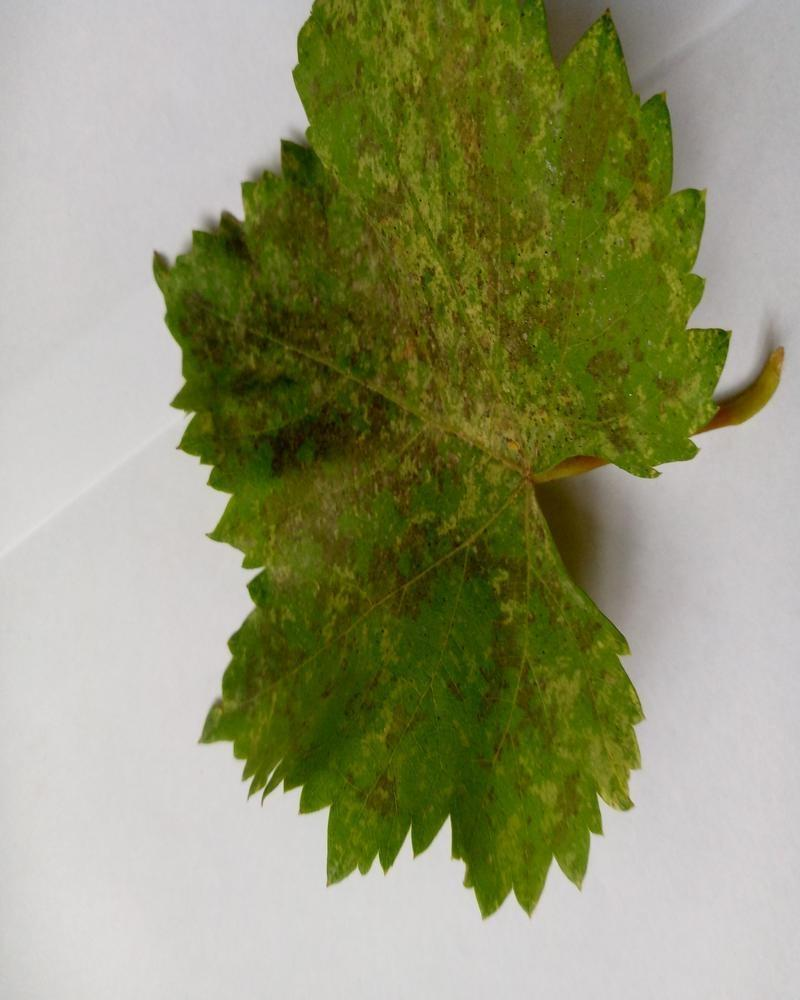Powdery-Mildew: (187, 245, 396, 612), (344, 148, 577, 468), (466, 538, 625, 812), (370, 5, 543, 239), (591, 312, 726, 471), (554, 68, 675, 227), (312, 674, 438, 820)
